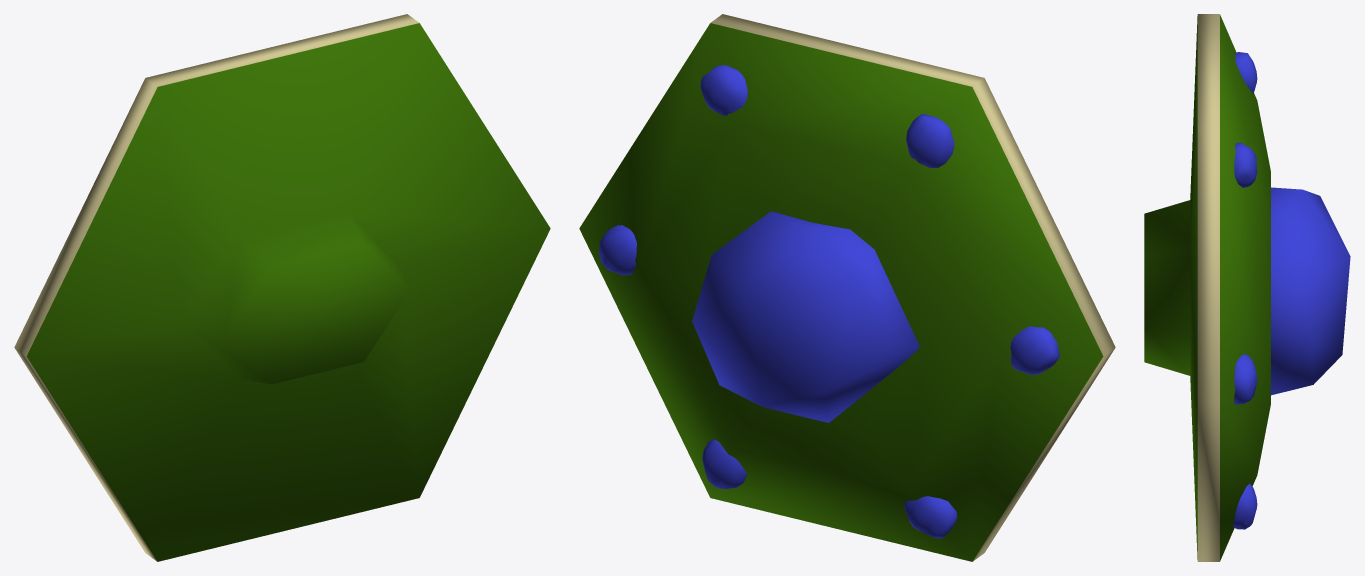
The model's file is ShipAlien2.FBX.
3 renders of one model, left to right at view 1: azimuth 30°, elevation 25°; view 2: azimuth 150°, elevation 25°; view 3: azimuth 270°, elevation 25°, orthographic. The views are drawn at different scales.
Visible parts, largest first — view 1: Cylinder023; view 2: Cylinder023; view 3: Cylinder023.
Boxes of the visible parts, left/top/right/bottom form: Cylinder023: left=14, top=14, right=550, bottom=561; Cylinder023: left=579, top=14, right=1115, bottom=561; Cylinder023: left=1144, top=14, right=1350, bottom=561.
Size of the model in its own units: 83.47 by 72.29 by 31.27.
